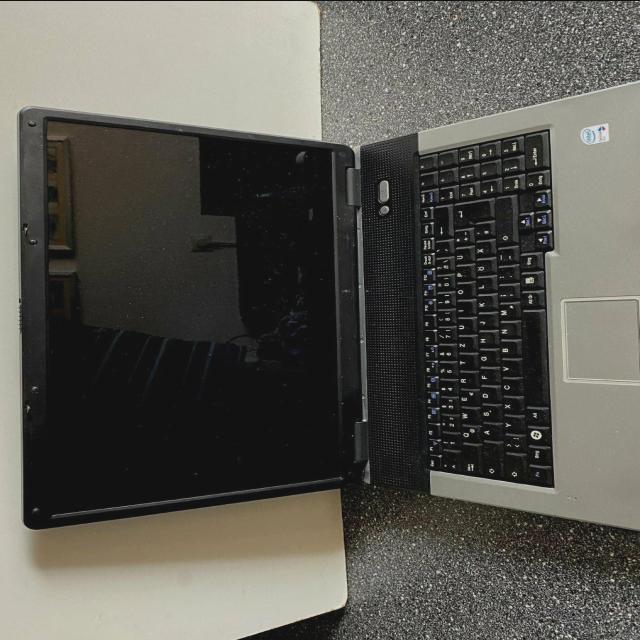0: (433, 276, 451, 290)
1: (439, 434, 459, 450)
2: (439, 416, 457, 431)
3: (437, 398, 456, 413)
4: (436, 381, 455, 395)
5: (435, 363, 453, 377)
6: (435, 346, 454, 360)
7: (433, 328, 453, 342)
8: (433, 311, 453, 325)
9: (433, 293, 451, 307)
a: (478, 425, 500, 440)
accent: (432, 241, 449, 255)
ae: (472, 241, 492, 256)
alt-left: (522, 408, 547, 426)
altgr-right: (518, 291, 543, 308)
b: (497, 342, 517, 357)
c: (499, 379, 521, 395)
caret: (440, 452, 459, 474)
comma: (495, 285, 517, 301)
d: (477, 388, 497, 403)
del: (431, 207, 450, 239)
e: (456, 391, 478, 407)
enter: (450, 200, 491, 228)
f: (476, 370, 498, 384)
g: (475, 351, 497, 367)
h: (474, 333, 494, 347)
hash: (472, 223, 492, 238)
i: (453, 302, 473, 317)
j: (474, 314, 496, 328)
k: (473, 296, 493, 310)
keyboard: (415, 126, 557, 492)
l: (473, 278, 493, 292)
less: (500, 435, 524, 453)
m: (496, 303, 518, 319)
minus: (493, 248, 515, 264)
n: (497, 323, 517, 338)
o: (453, 285, 473, 299)
oe: (472, 260, 492, 274)
p: (452, 266, 472, 281)
plus: (451, 230, 471, 246)
point: (494, 266, 516, 282)
q: (459, 426, 479, 443)
r: (456, 373, 476, 389)
s: (477, 406, 499, 422)
shift-left: (502, 455, 526, 485)
shift-lock: (479, 442, 503, 480)
shift-right: (493, 196, 515, 246)
space: (520, 311, 546, 405)
ss: (433, 259, 451, 273)
strg-left: (525, 447, 549, 465)
strg-right: (516, 254, 540, 270)
t: (455, 355, 475, 369)
tab: (459, 446, 479, 478)
u: (453, 320, 473, 334)
ue: (452, 249, 471, 264)
v: (498, 361, 518, 377)
w: (457, 409, 477, 425)
x: (499, 398, 521, 414)
y: (501, 417, 523, 433)
z: (455, 338, 473, 352)
